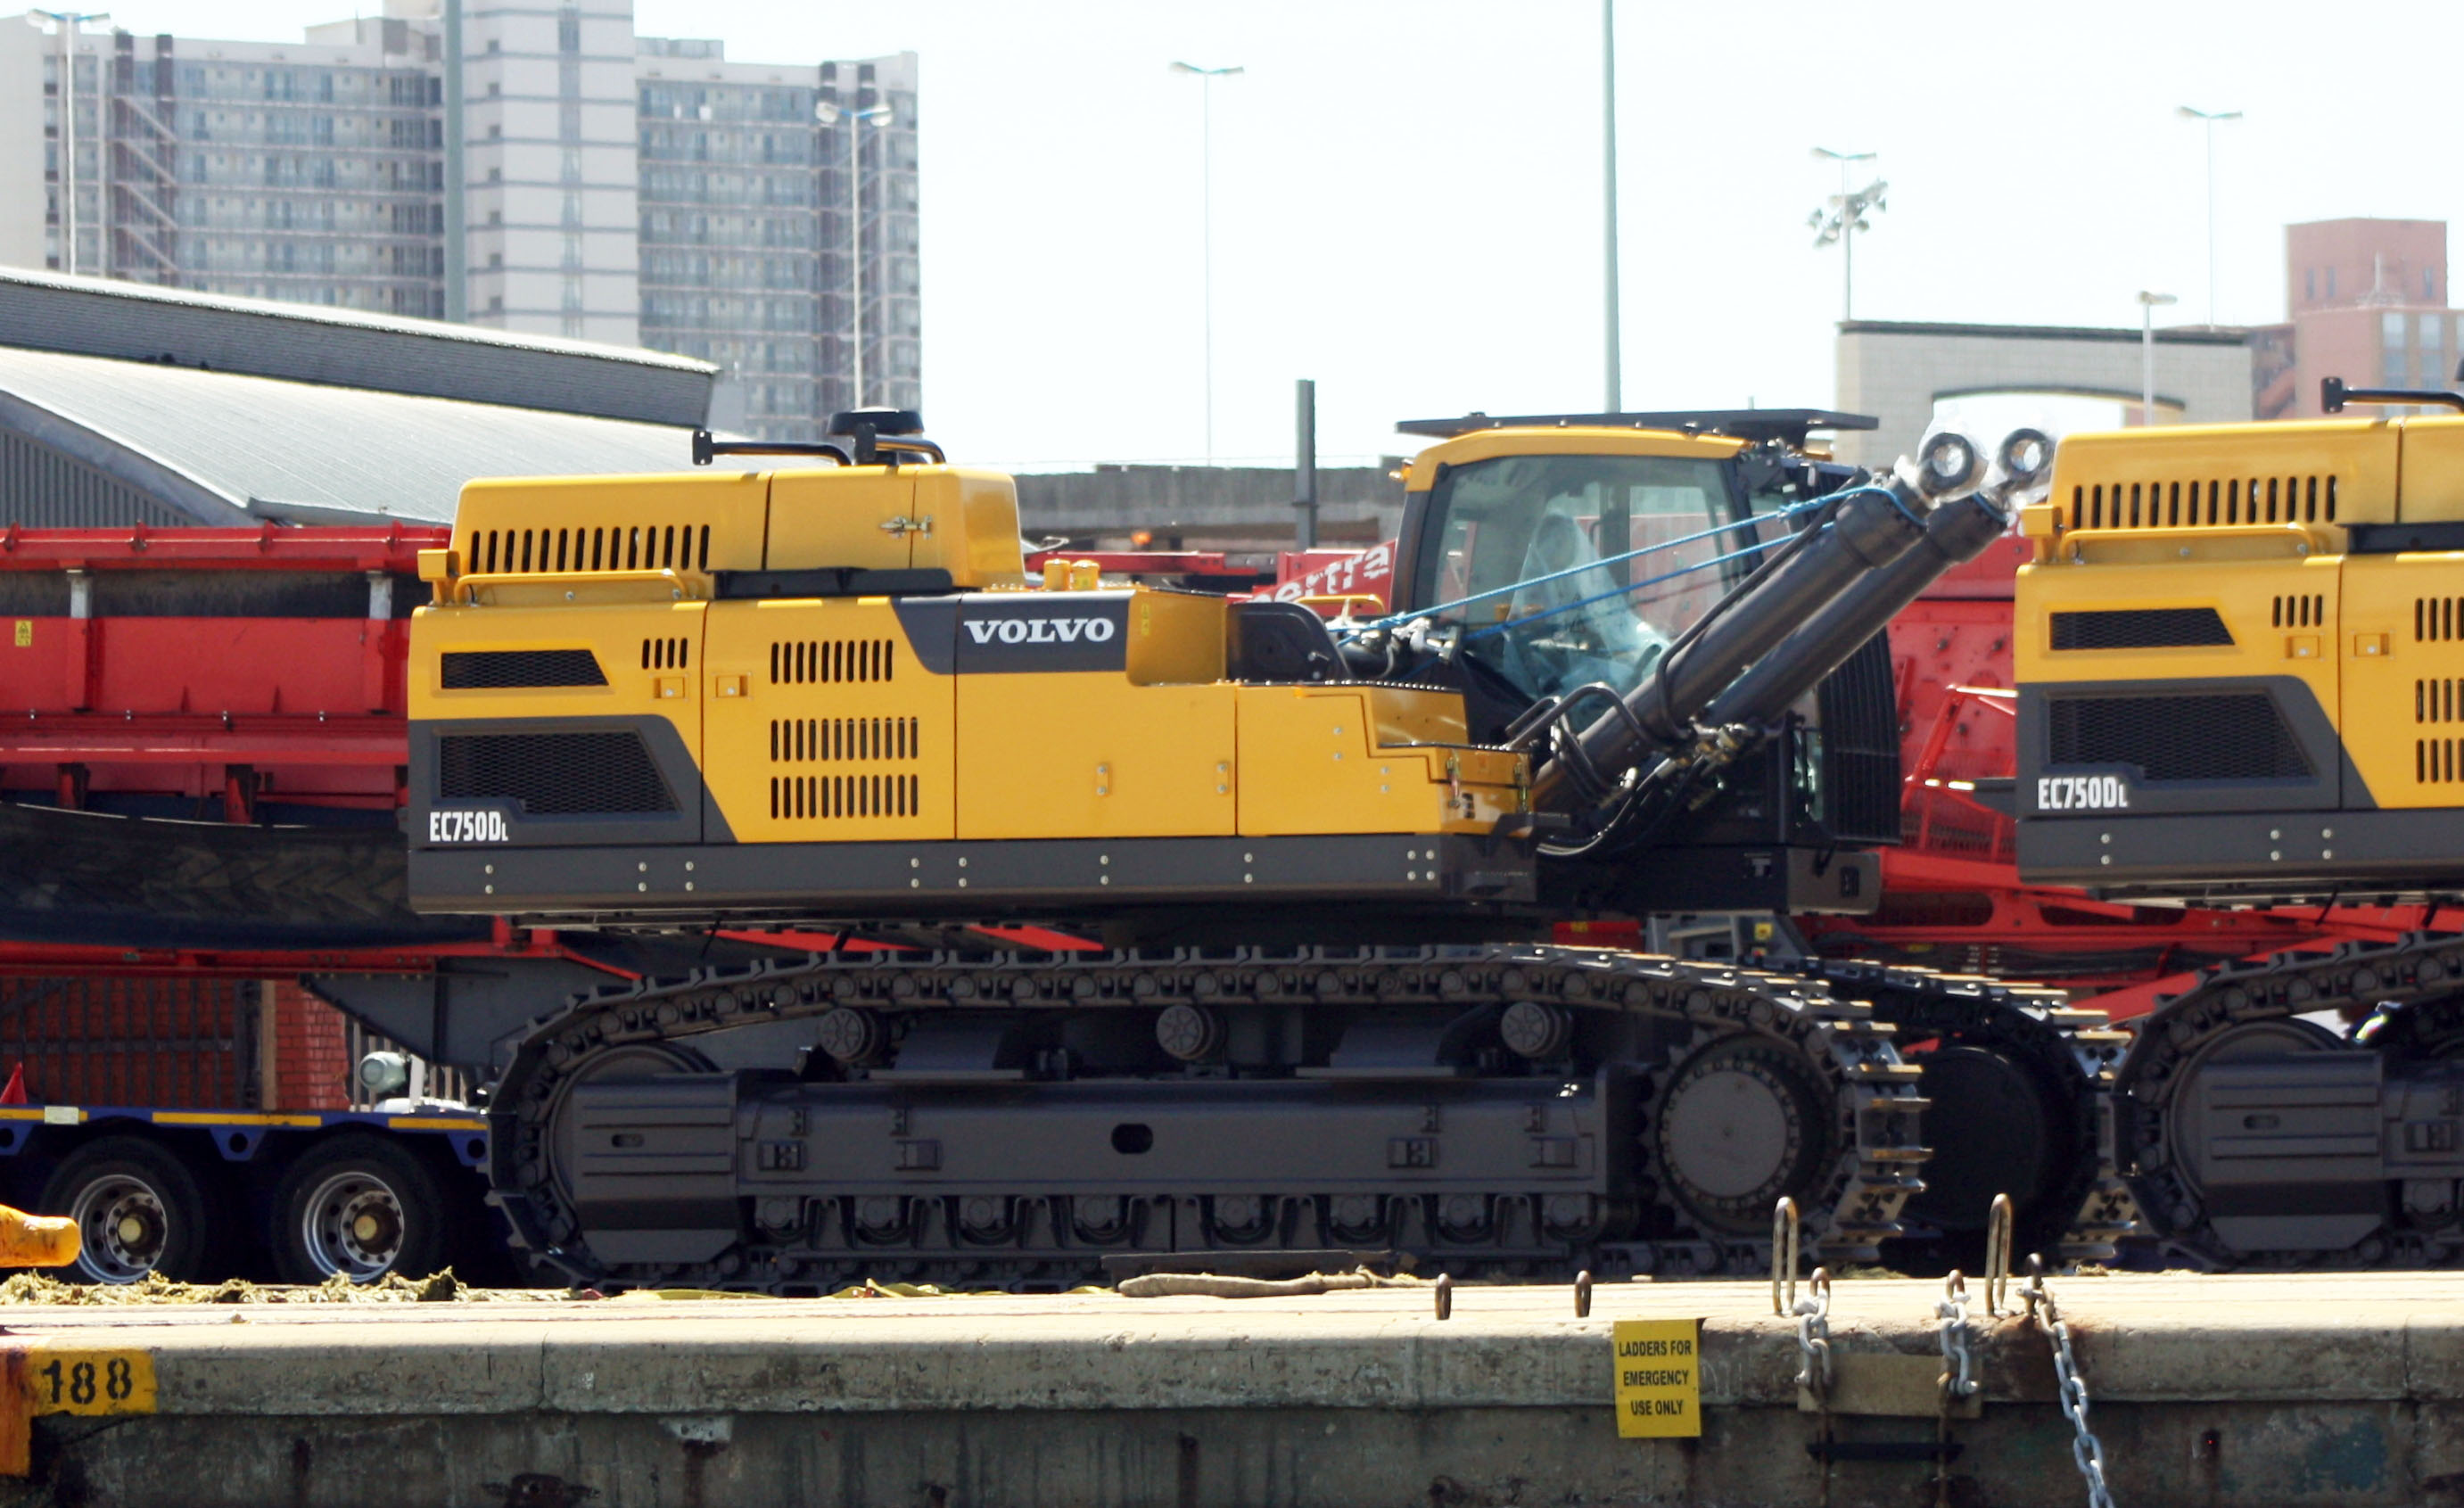excavator: (442, 414, 2151, 1288)
